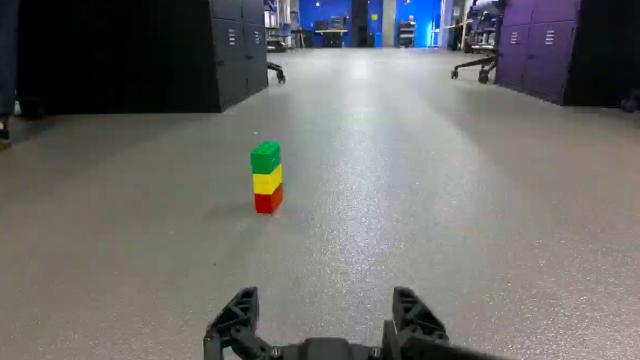lego: (252, 137, 283, 218)
